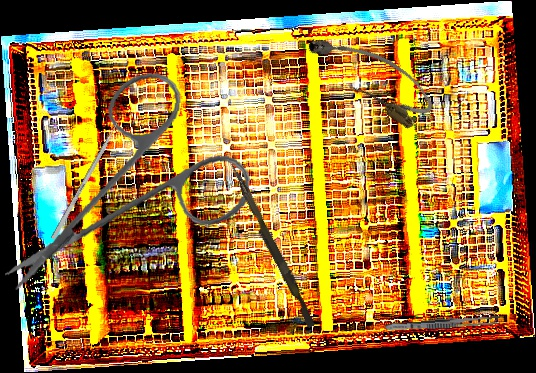Cannula: (300, 16, 441, 134)
Dressing Forceps: (384, 314, 501, 333)
Iris Scissors: (3, 56, 262, 317)
Pusher: (223, 162, 320, 329), (50, 109, 127, 240)
